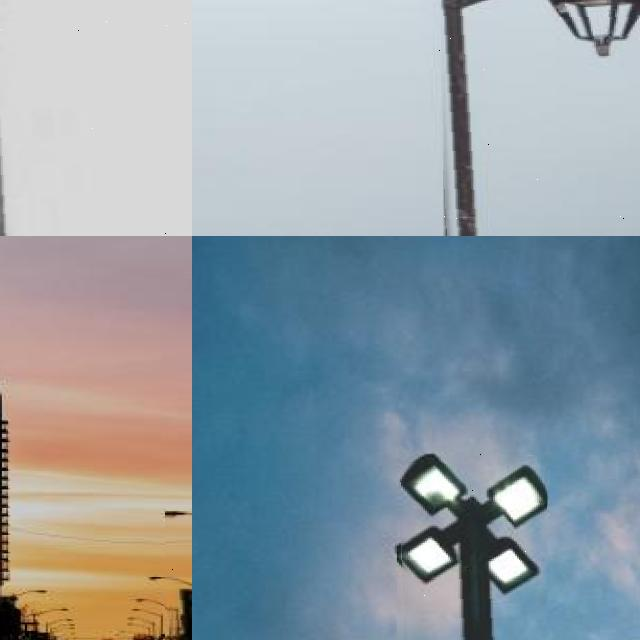street light: (432, 0, 640, 236), (0, 0, 192, 236), (396, 453, 547, 640), (165, 512, 192, 640), (150, 577, 192, 640), (0, 590, 48, 640), (135, 599, 175, 640), (29, 609, 67, 640), (131, 608, 161, 640), (46, 619, 73, 640), (127, 624, 151, 640), (50, 624, 74, 640), (52, 627, 75, 640), (119, 630, 140, 640)
